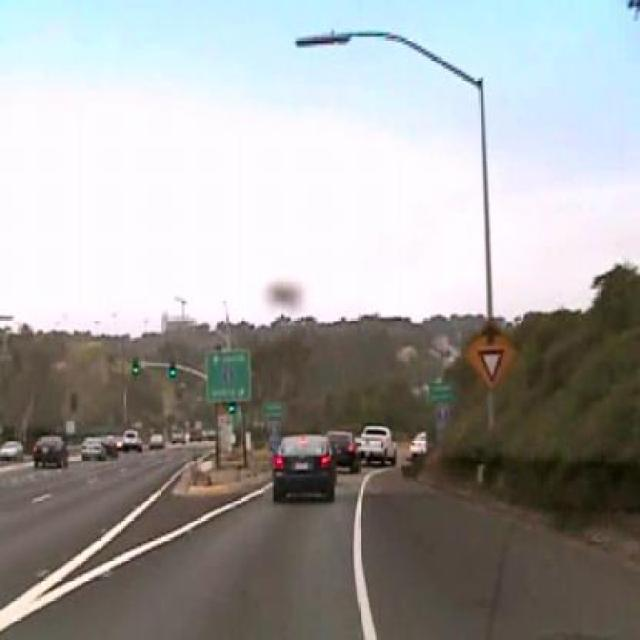yieldAhead: (462, 317, 516, 389)
